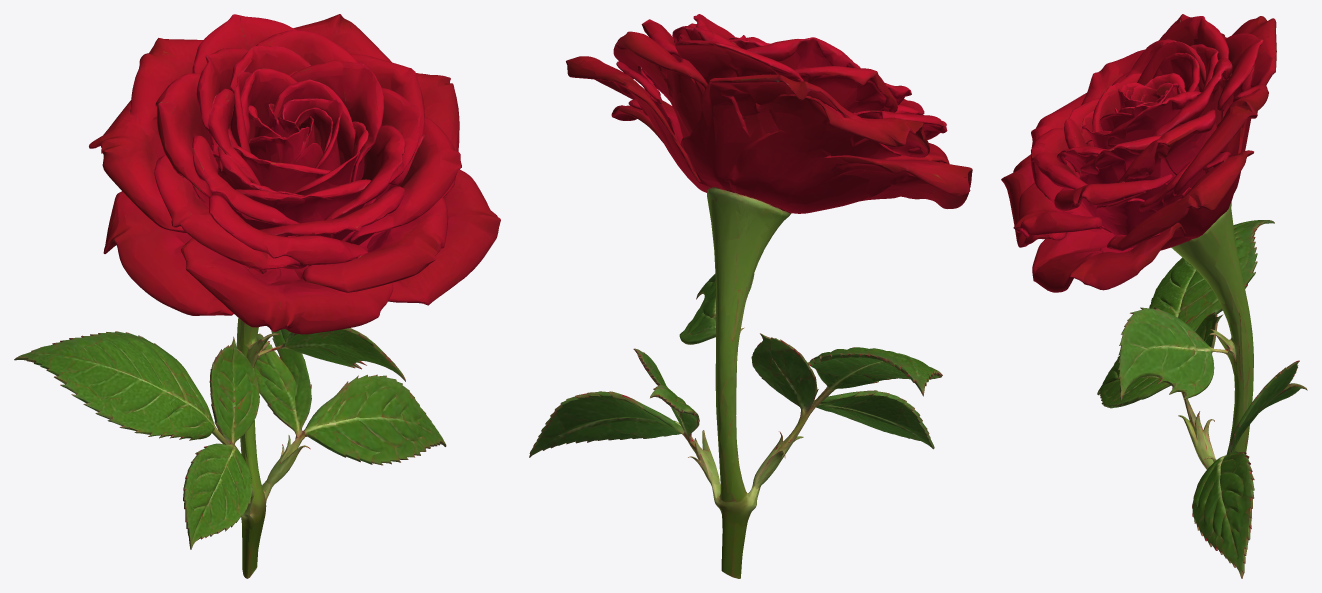
Rendered from rose.glb.
The picture shows the model from 3 angles, left to right: view 1: azimuth 30°, elevation 25°; view 2: azimuth 150°, elevation 25°; view 3: azimuth 270°, elevation 25°; orthographic projection. The views are drawn at different scales.
Visible parts, largest first — view 1: Mesh_0; view 2: Mesh_0; view 3: Mesh_0.
Part boxes in pixels (bbox=[...]): Mesh_0: bbox=[14, 14, 500, 578]; Mesh_0: bbox=[529, 14, 972, 578]; Mesh_0: bbox=[1001, 14, 1307, 578].
Bounding box in the file's own units: 1.5 × 1.91 × 1.02.
1 material, 1 textured.
